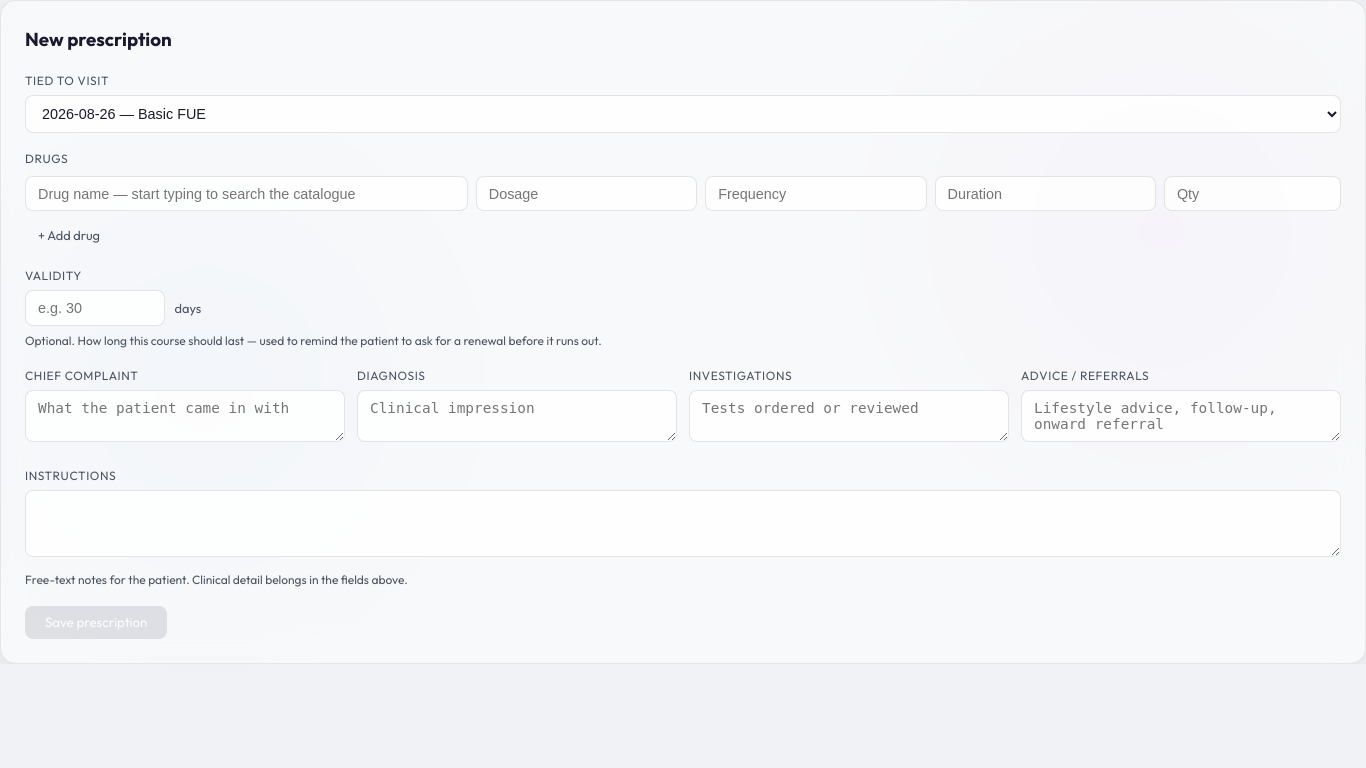
Test case: PrescribeTab — drug typeahead › warns when a suggested drug is out of stock
Step 1. Type "mino" into the field with placeholder "Drug name — start typing to search the catalogue" → point(246, 194), box [25,176,468,211]
Wait 300 ms
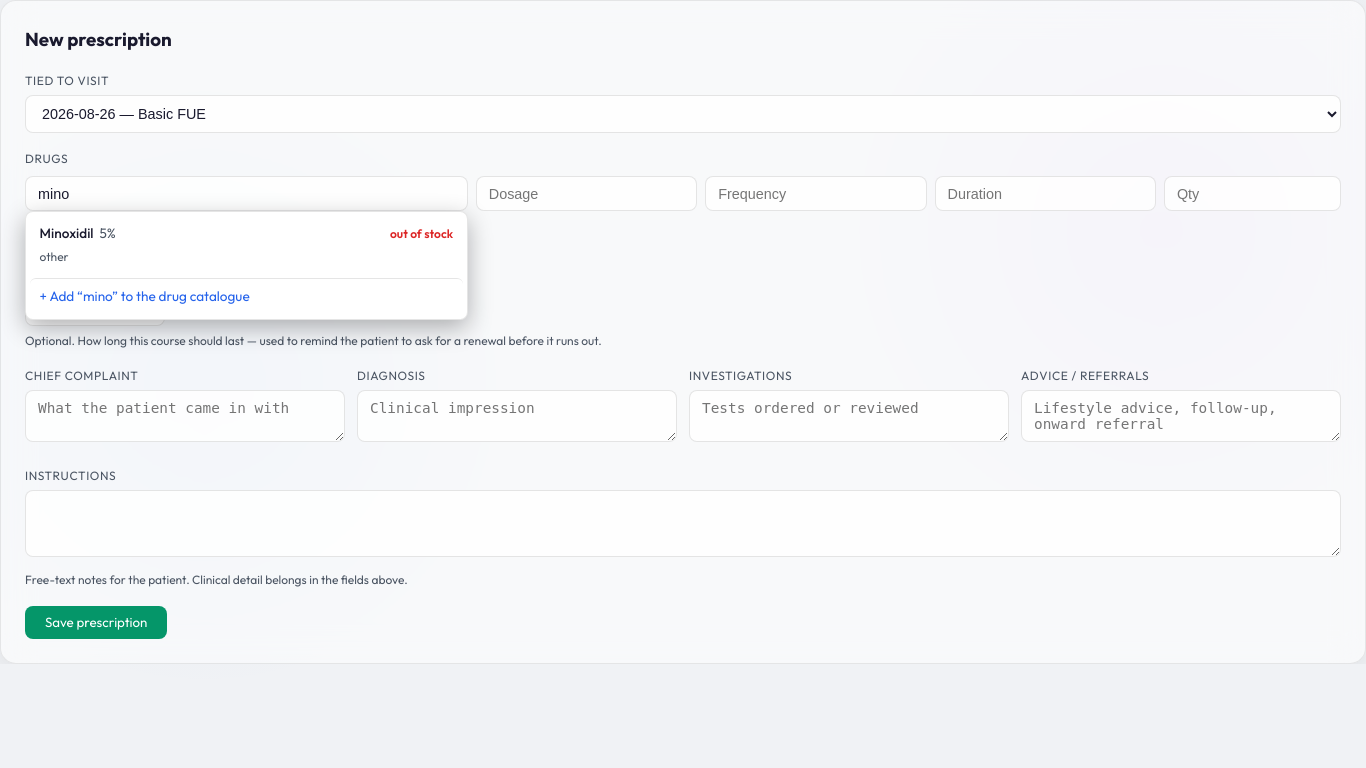
Expected: the text "out of stock" is shown, [390,224,453,244]
